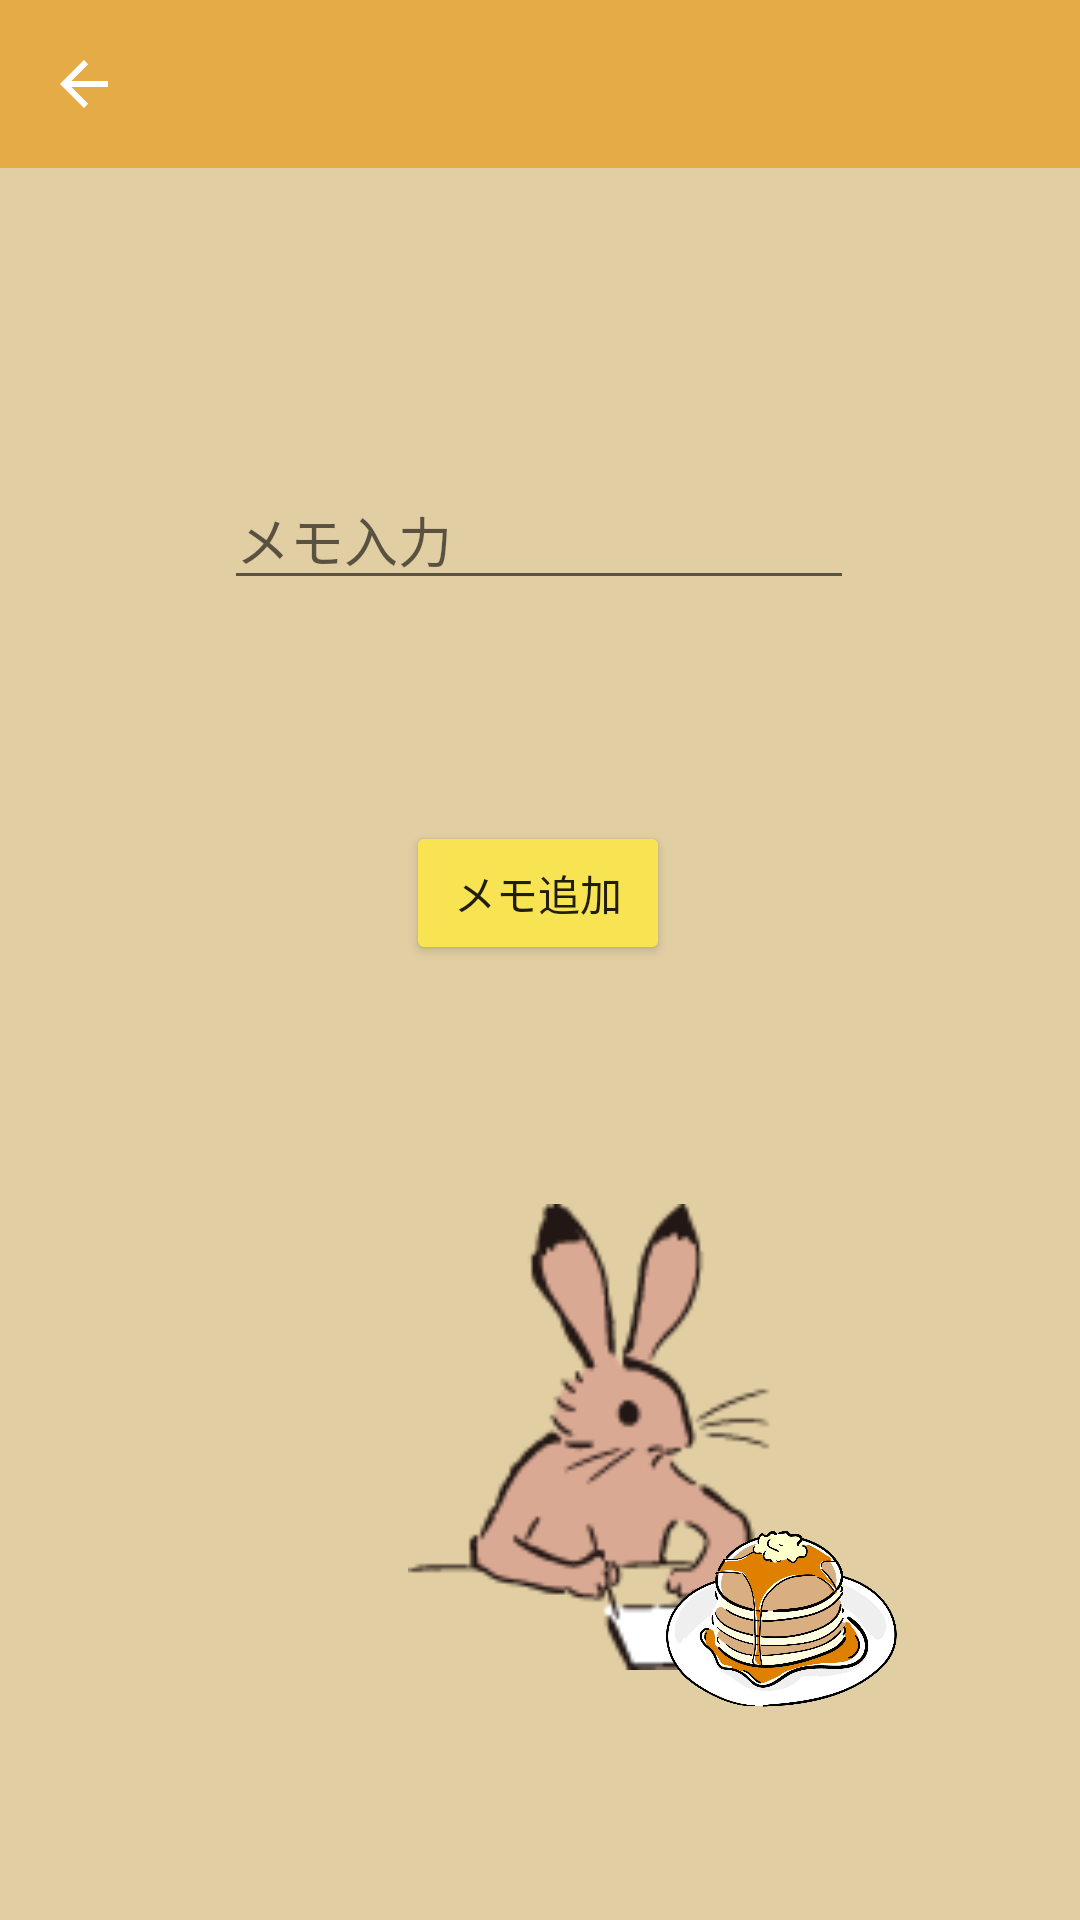

Locate icon controls on the screen. Image size 1080w x 1920h, boxes as (x1, y1, x2, y2).
pancake: (623, 1470, 897, 1707)
